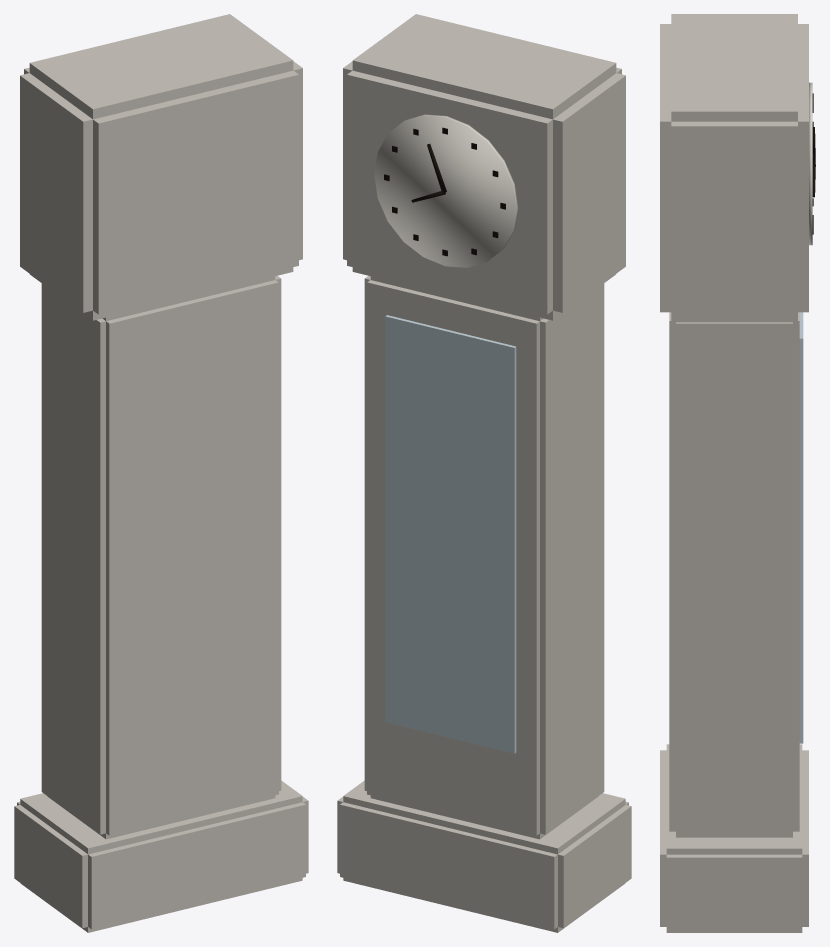
Rendered from marble_clock_v0.glb.
3 renders of one model, left to right at view 1: azimuth 30°, elevation 25°; view 2: azimuth 150°, elevation 25°; view 3: azimuth 270°, elevation 25°, orthographic.
Parts seen in each view (by area): view 1: marble_clock_v0; view 2: marble_clock_v0; view 3: marble_clock_v0.
Boxes of the visible parts, left/top/right/bottom form: marble_clock_v0: left=14, top=14, right=308, bottom=932; marble_clock_v0: left=337, top=14, right=631, bottom=932; marble_clock_v0: left=660, top=14, right=815, bottom=932.
Bounding box in the file's own units: 0.7 × 2.42 × 0.4185.
